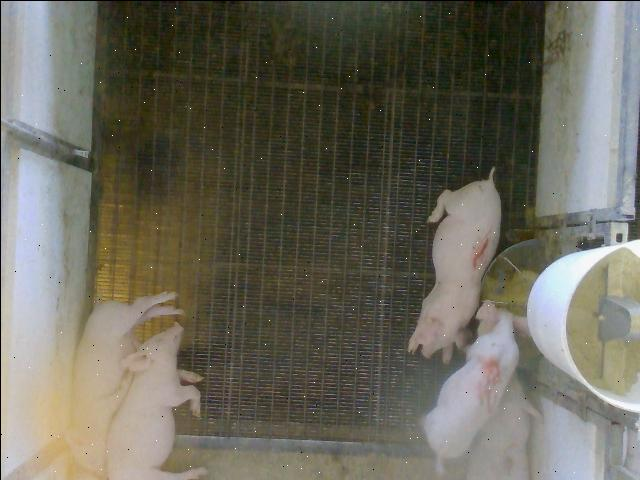pig-1: (408, 168, 500, 359)
pig-3: (466, 372, 539, 478)
pig-5: (422, 300, 528, 469)
